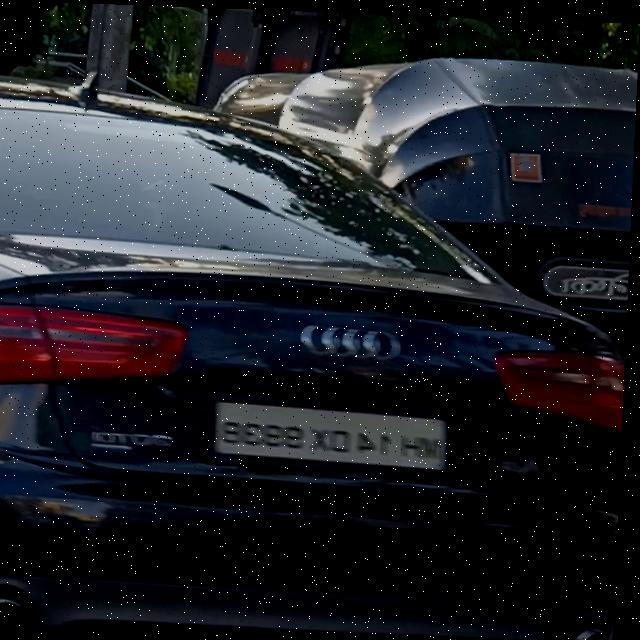plate: (215, 395, 461, 472)
